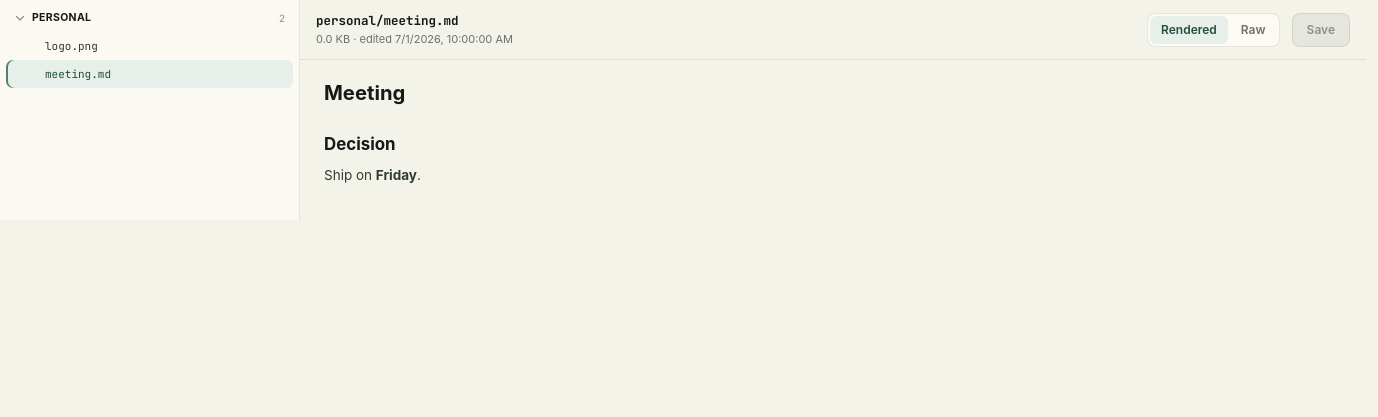
Files view › switches to the raw Markdown source on demand
Click the button "raw".
click(1253, 30)  # box [1230,16,1276,44]
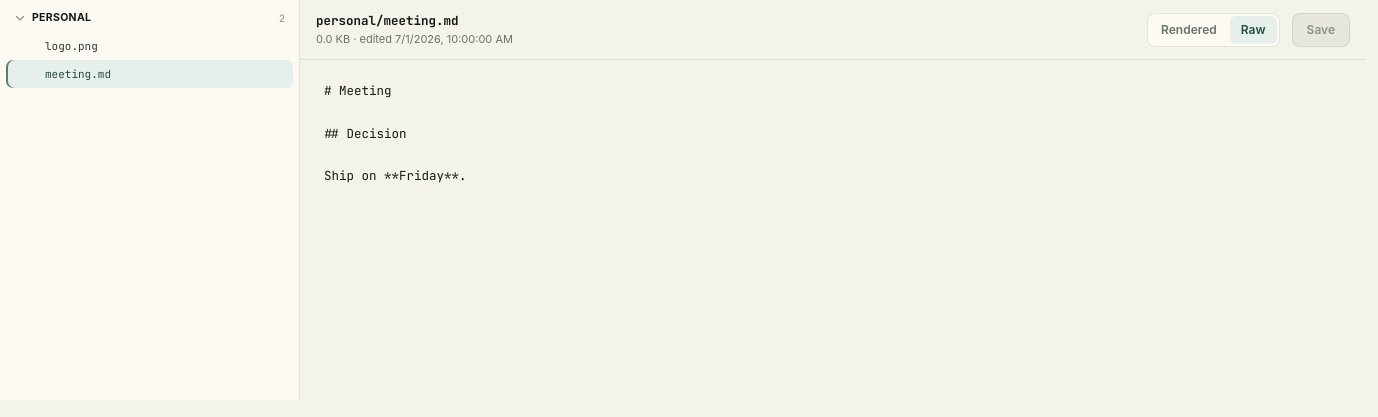
Now the element with class "cc-md" is gone
